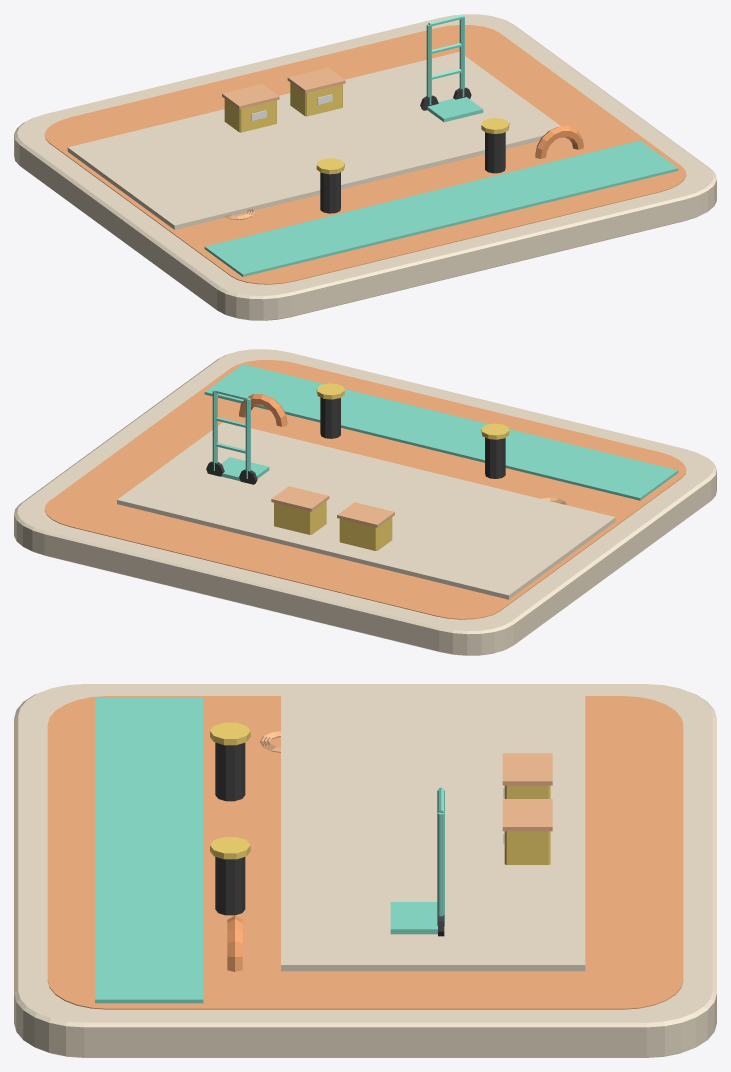
3 renders of one model, top to bottom at view 1: azimuth 30°, elevation 25°; view 2: azimuth 150°, elevation 25°; view 3: azimuth 270°, elevation 25°, orthographic. The views are drawn at different scales.
Parts seen in each view (by area): view 1: Dock paving, COM-01 Rounded Base Direct, COM-02 Floor Surface, Water edge, Box.001, Box, Loading plate, Lid.001, Lid, Mooring post, Mooring post.001, Life ring; view 2: Dock paving, COM-02 Floor Surface, COM-01 Rounded Base Direct, Water edge, Box, Box.001, Lid.001, Lid, Mooring post, Mooring post.001, Life ring, Loading plate; view 3: Dock paving, COM-02 Floor Surface, COM-01 Rounded Base Direct, Water edge, Mooring post.001, Mooring post, Lid, Lid.001, Box.001, Loading plate, Life ring, Frame.001 (+3 smaller).
Boxes of the visible parts, x1=… form: Dock paving: x1=67, y1=52, x2=560, y2=229; COM-01 Rounded Base Direct: x1=14, y1=14, x2=716, y2=320; COM-02 Floor Surface: x1=44, y1=25, x2=686, y2=284; Water edge: x1=204, y1=140, x2=678, y2=276; Box.001: x1=290, y1=82, x2=342, y2=116; Box: x1=224, y1=99, x2=276, y2=132; Loading plate: x1=427, y1=97, x2=483, y2=122; Lid.001: x1=287, y1=67, x2=345, y2=93; Lid: x1=222, y1=84, x2=279, y2=109; Mooring post: x1=320, y1=172, x2=340, y2=213; Mooring post.001: x1=485, y1=132, x2=505, y2=173; Life ring: x1=535, y1=126, x2=583, y2=158; Dock paving: x1=117, y1=422, x2=615, y2=599; COM-02 Floor Surface: x1=44, y1=360, x2=686, y2=619; COM-01 Rounded Base Direct: x1=14, y1=349, x2=716, y2=655; Water edge: x1=204, y1=364, x2=678, y2=500; Box: x1=339, y1=517, x2=392, y2=550; Box.001: x1=274, y1=501, x2=326, y2=534; Lid.001: x1=271, y1=486, x2=329, y2=511; Lid: x1=337, y1=502, x2=394, y2=527; Mooring post: x1=485, y1=437, x2=505, y2=478; Mooring post.001: x1=320, y1=397, x2=340, y2=438; Life ring: x1=239, y1=394, x2=287, y2=426; Loading plate: x1=221, y1=457, x2=269, y2=481; Dock paving: x1=281, y1=693, x2=585, y2=971; COM-02 Floor Surface: x1=47, y1=696, x2=683, y2=1009; COM-01 Rounded Base Direct: x1=14, y1=684, x2=716, y2=1057; Water edge: x1=95, y1=697, x2=203, y2=1003; Mooring post.001: x1=215, y1=857, x2=245, y2=915; Mooring post: x1=215, y1=742, x2=245, y2=801; Lid: x1=502, y1=753, x2=552, y2=785; Lid.001: x1=502, y1=799, x2=552, y2=831; Box.001: x1=504, y1=831, x2=550, y2=864; Loading plate: x1=390, y1=902, x2=437, y2=934; Life ring: x1=227, y1=915, x2=242, y2=971; Frame.001: x1=437, y1=812, x2=444, y2=925.
Bounding box in the file's own units: 6 × 1.34 × 5.2.
Materials: 1 (1 with a texture image).
